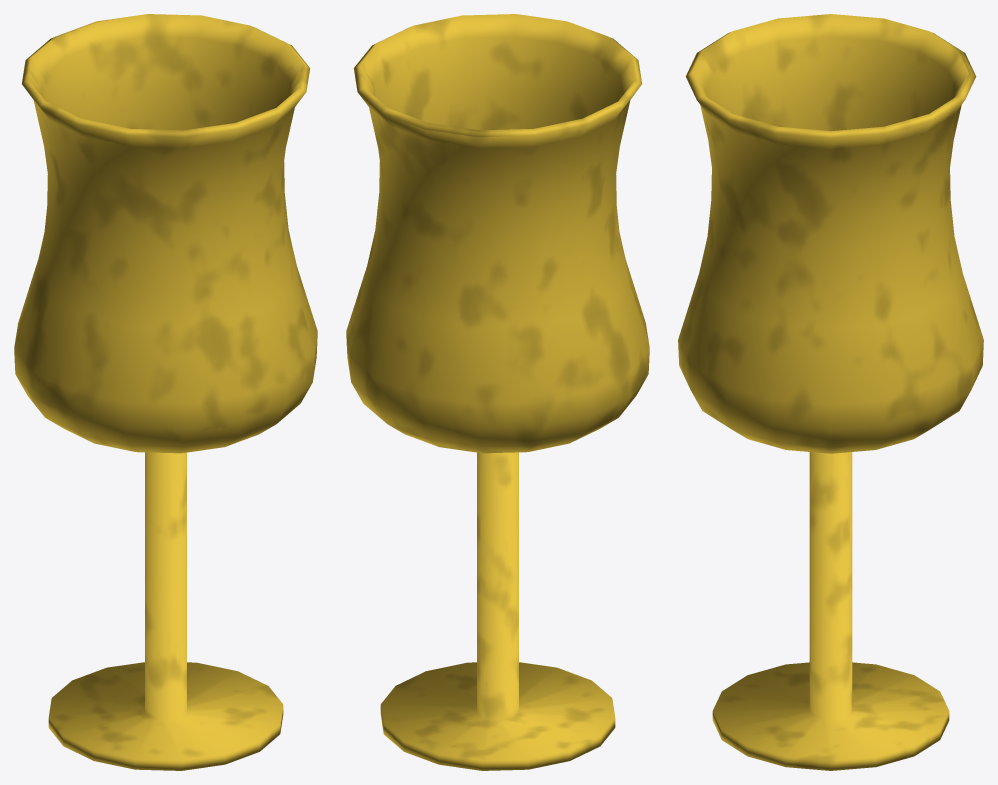
The model's file is GoldenCup.gltf.
3 renders of one model, left to right at view 1: azimuth 30°, elevation 25°; view 2: azimuth 150°, elevation 25°; view 3: azimuth 270°, elevation 25°, orthographic.
Visible parts, largest first — view 1: Bowl, Stem; view 2: Bowl, Stem; view 3: Bowl, Stem.
Part boxes in pixels (x1,y1,x2,y2): Bowl: (14, 14, 317, 453); Stem: (48, 452, 283, 770); Bowl: (346, 14, 649, 453); Stem: (380, 452, 615, 770); Bowl: (678, 14, 983, 453); Stem: (712, 452, 949, 770).
Bounding box in the file's own units: 0.0958 × 0.224 × 0.0958.
1 material, 1 textured.
